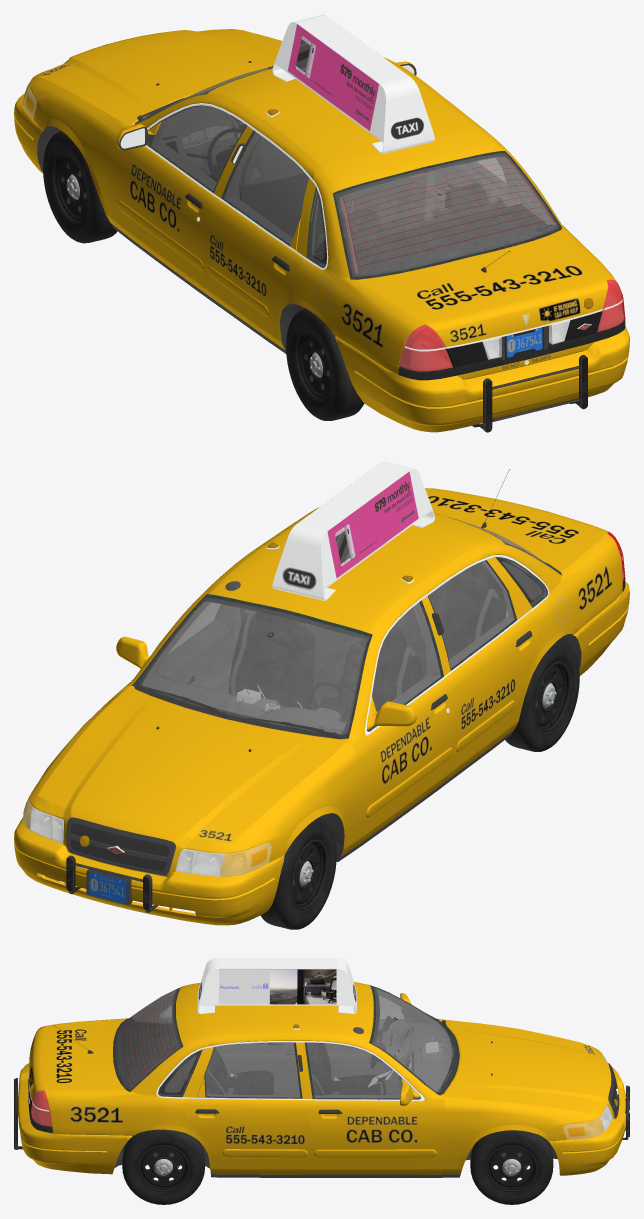
3 views of the same model, one above another, from view 1: azimuth 30°, elevation 25°; view 2: azimuth 150°, elevation 25°; view 3: azimuth 270°, elevation 25° (orthographic). The views are drawn at different scales.
Parts seen in each view (by area): view 1: defaultMaterial (×6); view 2: defaultMaterial (×6); view 3: defaultMaterial (×6).
Part boxes in pixels (x1,y1,x2,y2): defaultMaterial (×6): (14,14,629,432); defaultMaterial (×6): (14,461,629,929); defaultMaterial (×6): (14,958,629,1204).
Bounding box in the file's own units: 432 × 389 × 1079.
Materials: 6 (6 with a texture image).
